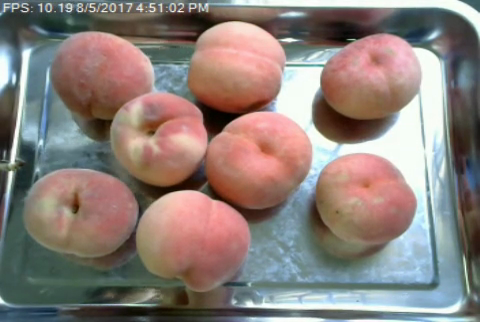Peach: (136, 189, 248, 290), (310, 152, 417, 252), (23, 167, 139, 259), (206, 111, 308, 211), (106, 90, 210, 187), (319, 32, 425, 124), (51, 29, 154, 121), (187, 20, 285, 113)
